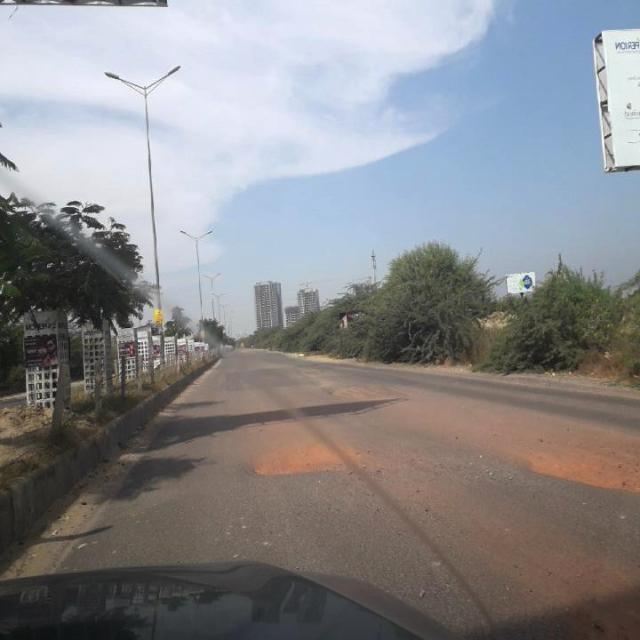pothole: (507, 418, 640, 496), (250, 432, 392, 486), (322, 368, 412, 404)
